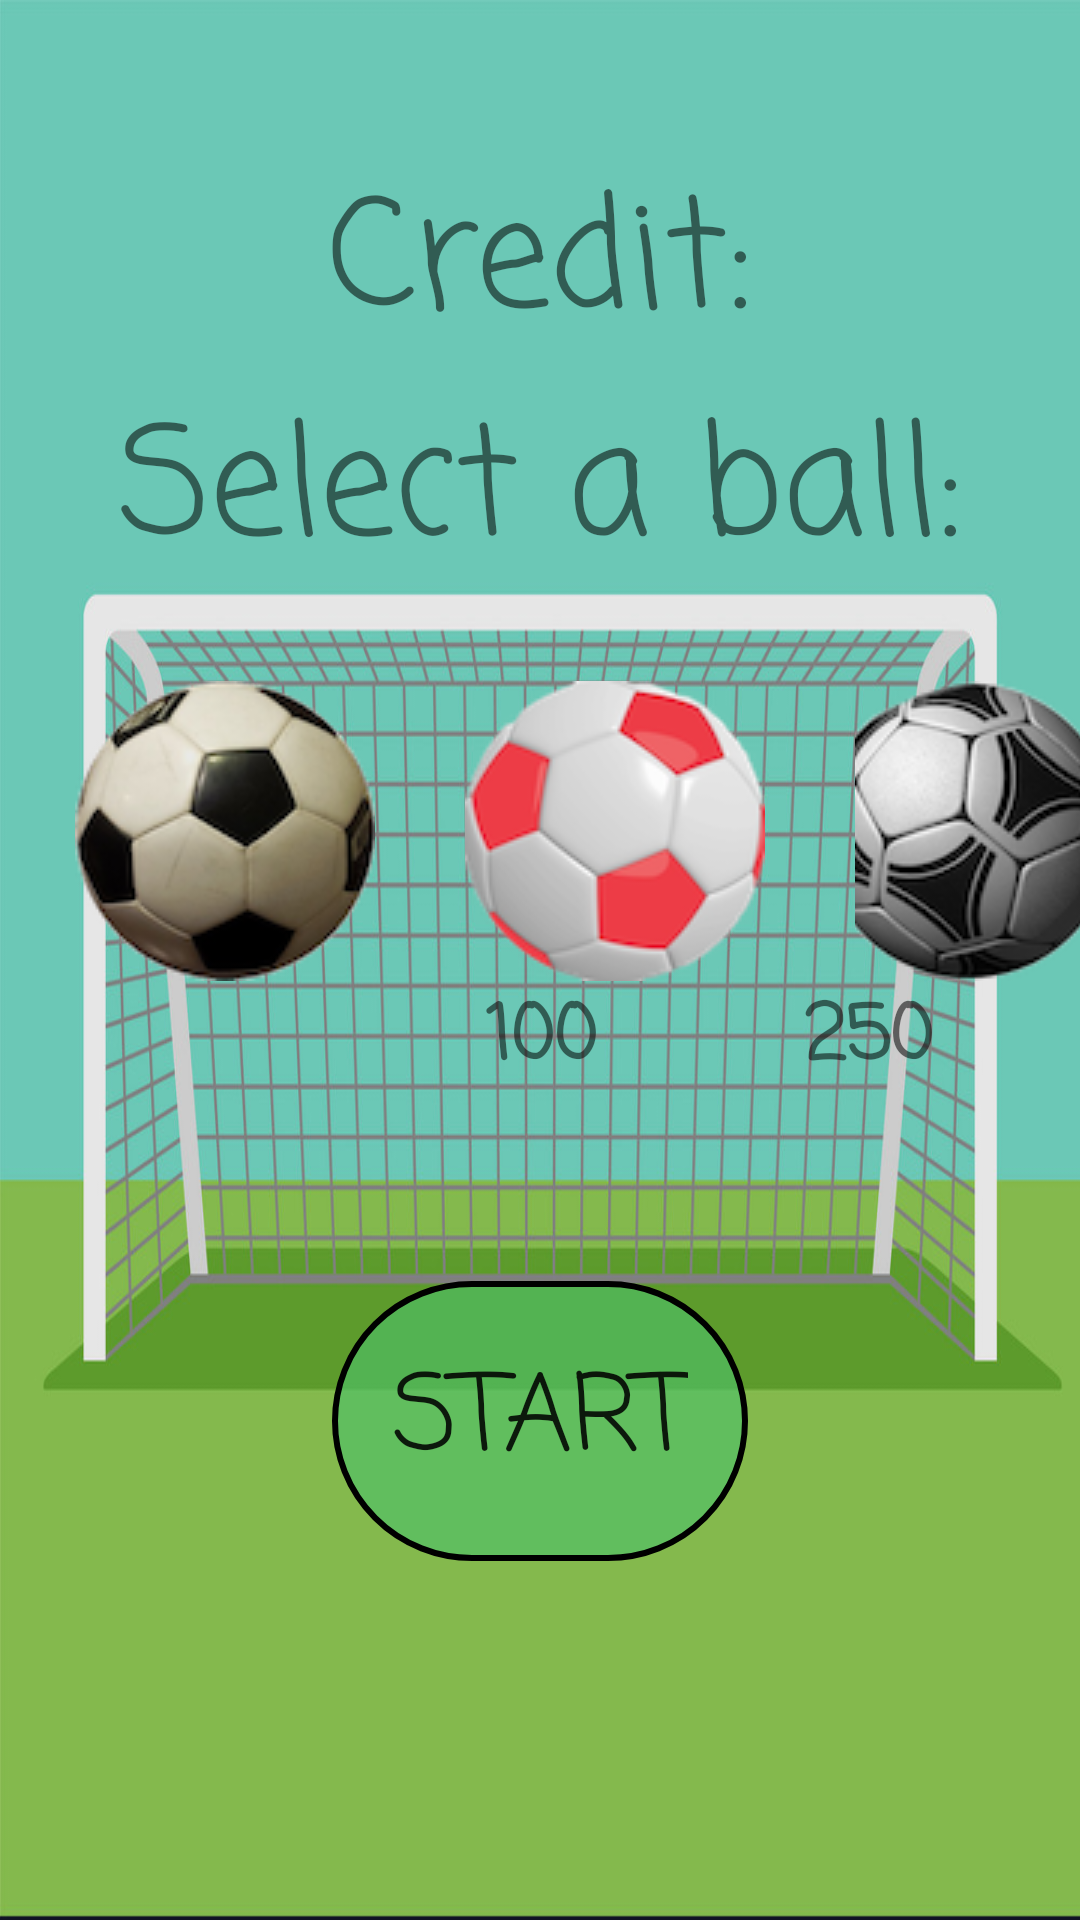

Where to tap for icons on this 1080px×1920px app screen, as (x,y):
ball expert: (967,831)
ball med: (615,831)
ball noob: (225,831)
